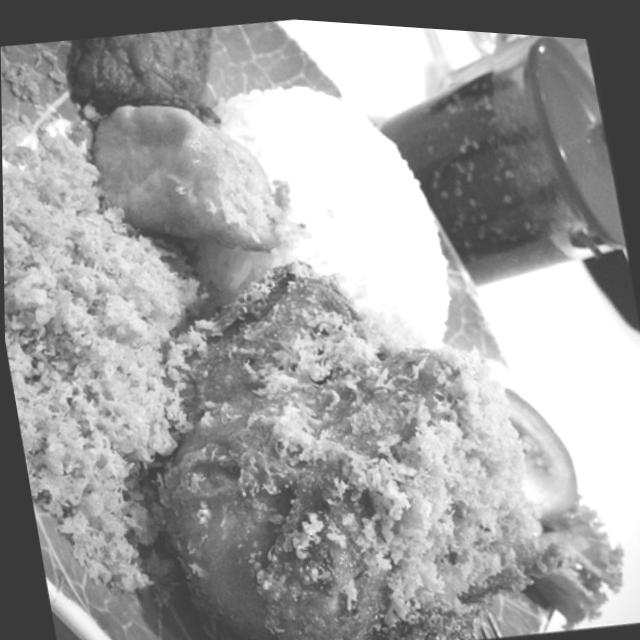鸡肉料理 含炸鸡: (0, 0, 613, 640)
